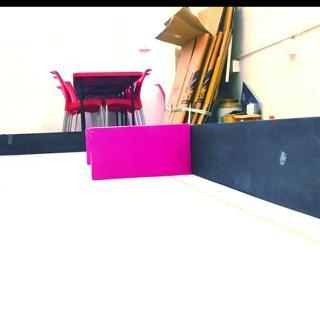xparking: (85, 123, 191, 180)
